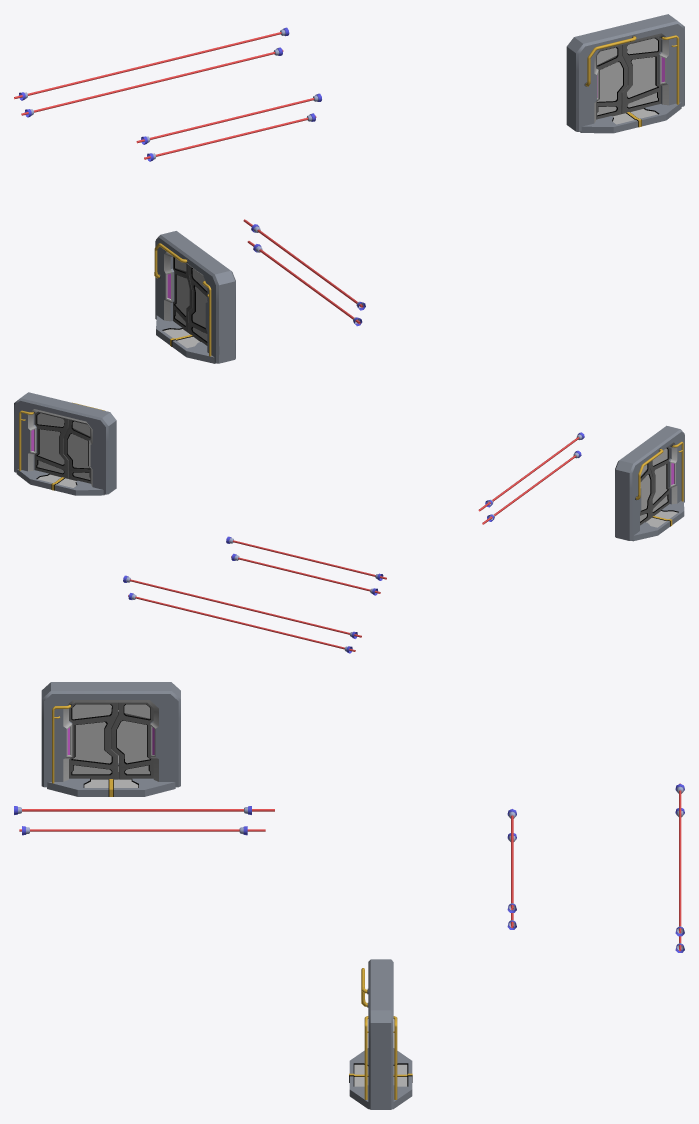
3 views of the same model, one above another, from view 1: azimuth 30°, elevation 25°; view 2: azimuth 150°, elevation 25°; view 3: azimuth 270°, elevation 25° (orthographic). The views are drawn at different scales.
Parts seen in each view (by area): view 1: Base (×2), Right (×2), Left (×2), Base5 (×2), Laser (×3); view 2: Base (×2), Right (×2), Base5 (×2), Left (×2), Laser (×3); view 3: Base (×2), Base5 (×2), Right, Left, Laser (×2).
Part boxes in pixels (<box>): Base (×2): <box>155,14,684,363</box>; Right (×2): <box>188,36,660,345</box>; Left (×2): <box>173,45,627,332</box>; Base5 (×2): <box>156,102,681,363</box>; Laser (×3): <box>14,32,314,143</box>; Base (×2): <box>14,392,684,540</box>; Right (×2): <box>34,411,669,518</box>; Base5 (×2): <box>16,469,684,541</box>; Left (×2): <box>63,419,652,525</box>; Laser (×3): <box>128,540,386,651</box>; Base (×2): <box>41,682,393,1109</box>; Base5 (×2): <box>47,763,412,1109</box>; Right: <box>69,702,118,779</box>; Left: <box>111,702,153,779</box>; Laser (×2): <box>19,809,274,831</box>.
Size of the model in its own units: 316 by 41.91 by 262.
